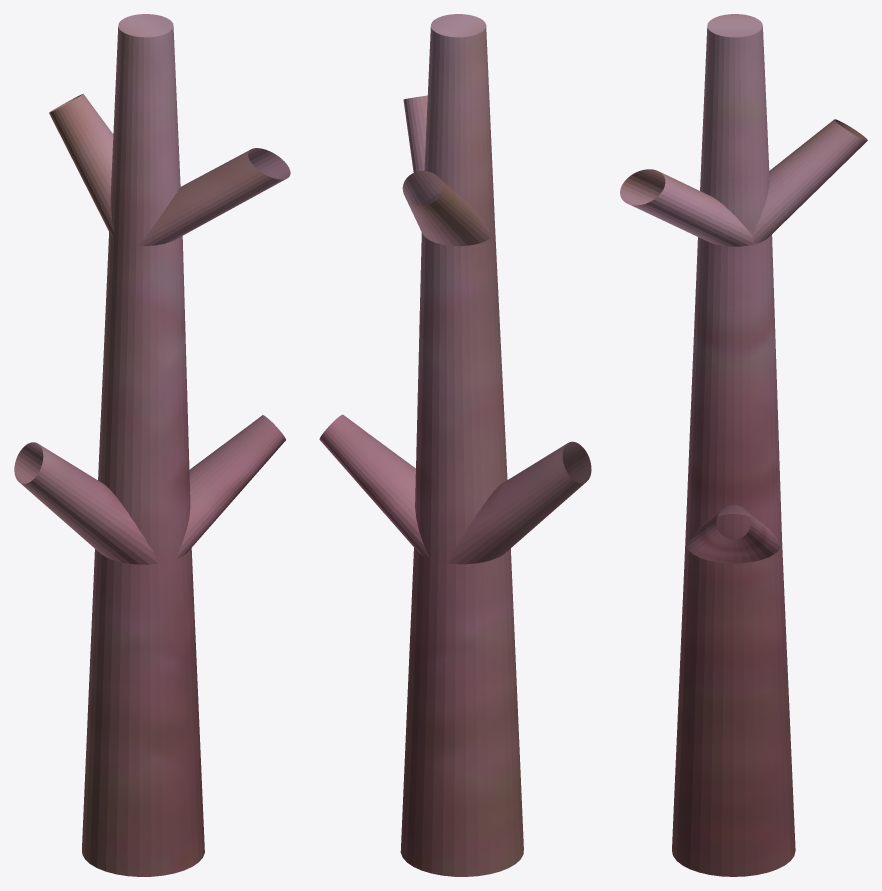
File: katakataka_stem.fbx
The picture shows the model from 3 angles, left to right: view 1: azimuth 30°, elevation 25°; view 2: azimuth 150°, elevation 25°; view 3: azimuth 270°, elevation 25°; orthographic projection.
Parts seen in each view (by area): view 1: Cylinder; view 2: Cylinder; view 3: Cylinder.
Part boxes in pixels (box(x1,y1,x2,y2)): Cylinder: box(14, 14, 290, 876); Cylinder: box(319, 14, 591, 876); Cylinder: box(620, 14, 867, 876).
Size of the model in its own units: 107 by 319 by 86.76.
